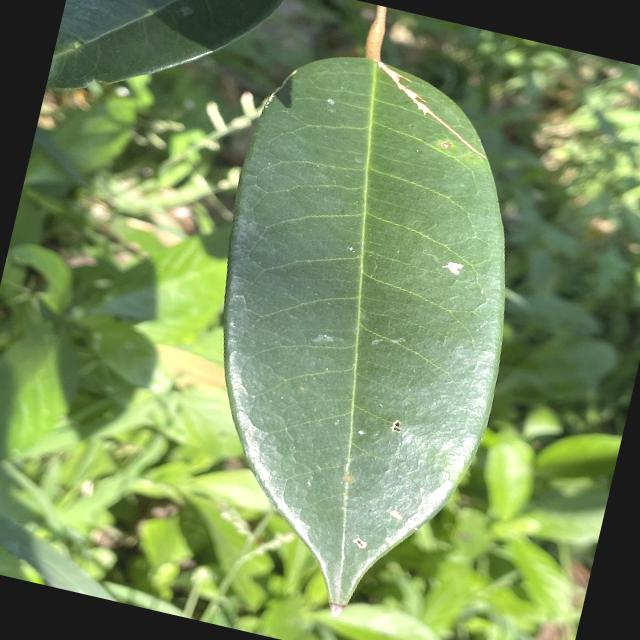No Disease: (132, 20, 572, 639)
